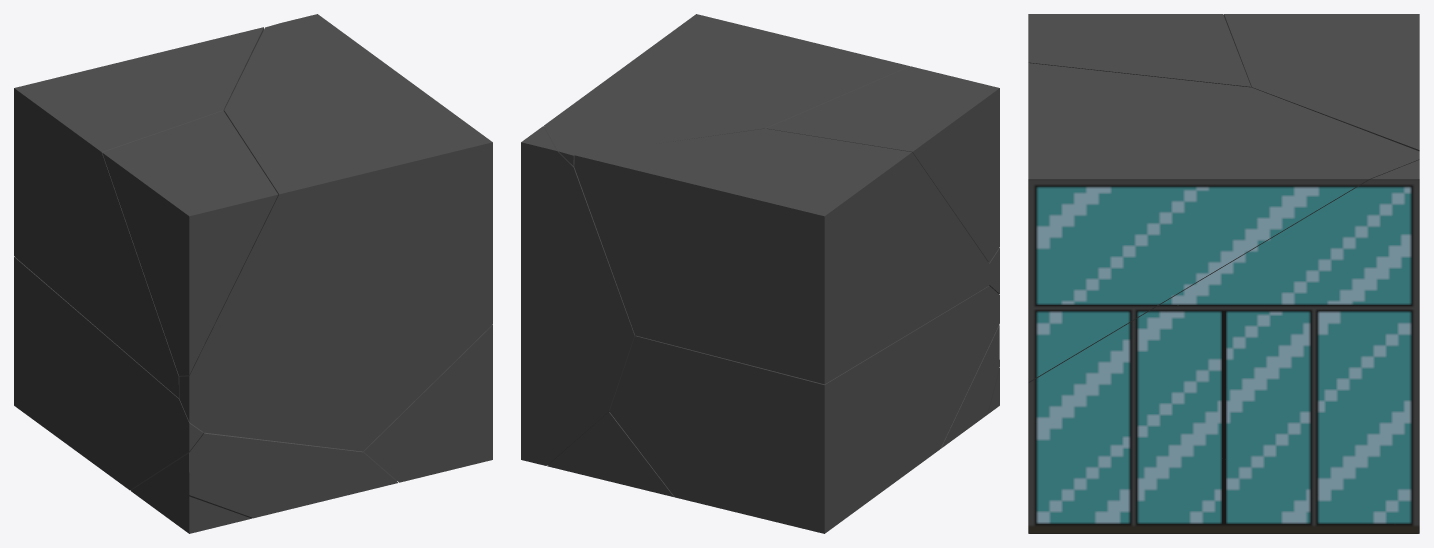
The model's file is GlassBuildingV128x128_Ground02_break.fbx.
The picture shows the model from 3 angles, left to right: view 1: azimuth 30°, elevation 25°; view 2: azimuth 150°, elevation 25°; view 3: azimuth 270°, elevation 25°; orthographic projection. The views are drawn at different scales.
Parts seen in each view (by area): view 1: Ground02Break06, Ground02Break01, Ground02Break07, Ground02Break05, Ground02Break03, Ground02Break04, Ground02Break02; view 2: Ground02Break01, Ground02Break05, Ground02Break06, Ground02Break04, Ground02Break07, Ground02Break03; view 3: Ground02Break04, Ground02Break06, Ground02Break01, Ground02Break07.
Part boxes in pixels (x1,y1,x2,y2): Ground02Break06: (179, 23, 492, 451); Ground02Break01: (14, 27, 263, 397); Ground02Break07: (102, 110, 278, 375); Ground02Break05: (14, 257, 203, 490); Ground02Break03: (130, 432, 397, 524); Ground02Break04: (282, 14, 492, 482); Ground02Break02: (177, 496, 251, 533); Ground02Break01: (574, 128, 989, 384); Ground02Break05: (609, 286, 999, 533); Ground02Break06: (544, 14, 999, 294); Ground02Break04: (521, 126, 635, 465); Ground02Break07: (766, 66, 999, 262); Ground02Break03: (547, 325, 999, 497); Ground02Break04: (1028, 160, 1419, 533); Ground02Break06: (1028, 63, 1419, 383); Ground02Break01: (1223, 14, 1419, 151); Ground02Break07: (1028, 14, 1250, 87).
Bounding box in the file's own units: 100 × 100 × 100.
1 material, 1 textured.
